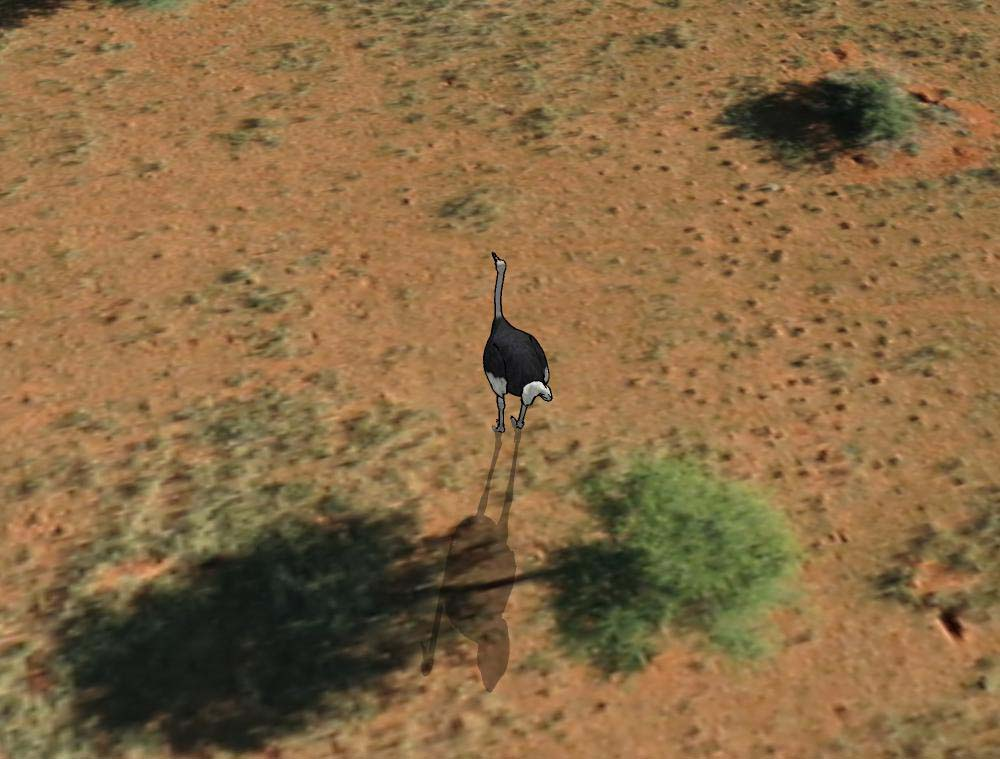springbok: (478, 250, 560, 433)
